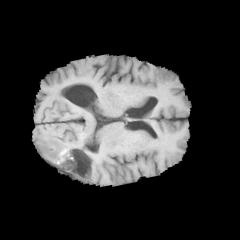glioma: (37, 138, 96, 183)
